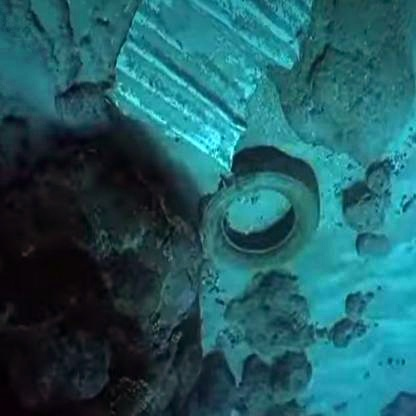metal: (152, 1, 280, 160)
tire: (195, 150, 330, 274)
